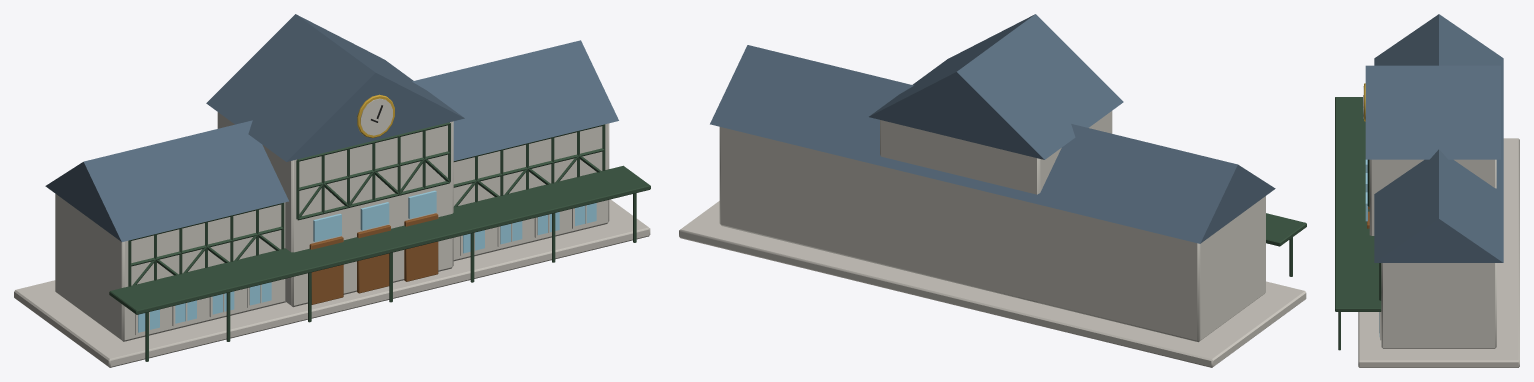
File: 126_gare_trouville_deauville.fbx
The picture shows the model from 3 angles, left to right: view 1: azimuth 30°, elevation 25°; view 2: azimuth 150°, elevation 25°; view 3: azimuth 270°, elevation 25°; orthographic projection. The views are drawn at different scales.
Parts seen in each view (by area): view 1: Batiment, Vitres, Horloge; view 2: Batiment; view 3: Batiment, Vitres.
Boxes of the visible parts, x1,y1,x2,y2 form: Batiment: (14,14,650,367); Vitres: (138,190,596,332); Horloge: (357,94,394,138); Batiment: (679,14,1306,367); Batiment: (1335,14,1519,367); Vitres: (1365,159,1379,336).
Size of the model in its own units: 11.2 by 4.48 by 3.92.
Materials: 1 (1 with a texture image).
